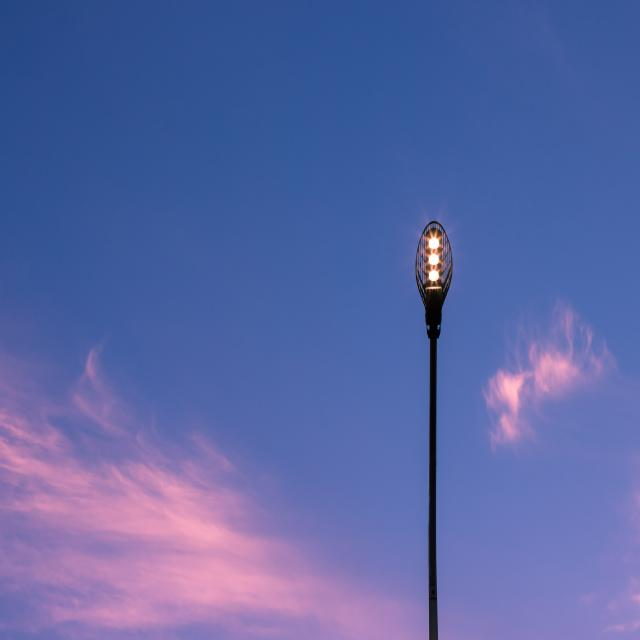Street Light: (414, 219, 454, 640)
